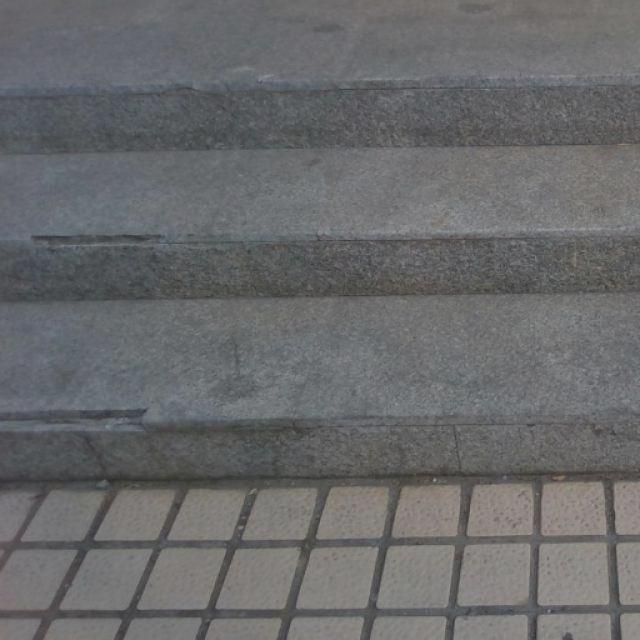stair: (16, 4, 640, 482)
